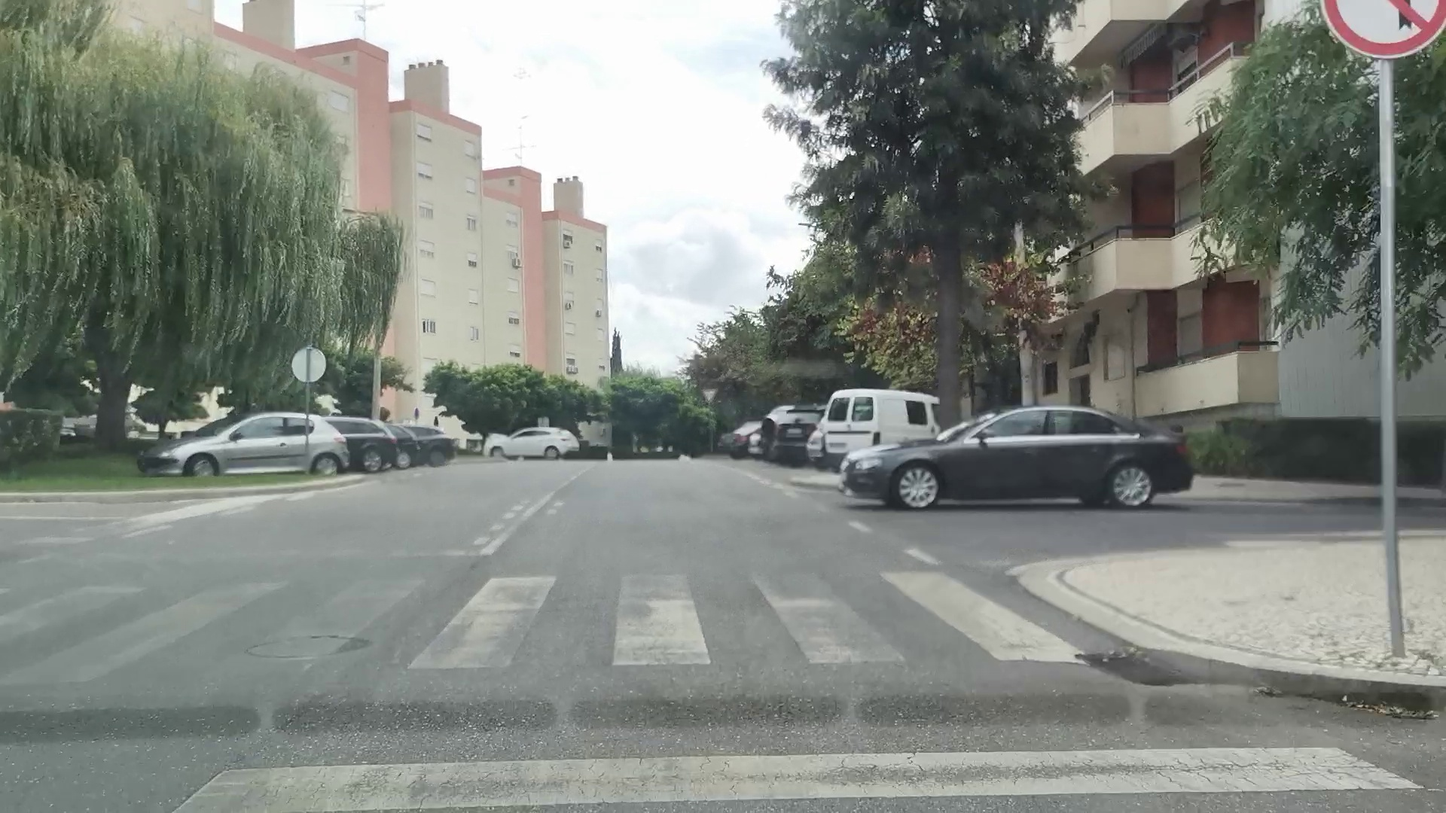Stairs: (0, 562, 1100, 676)
